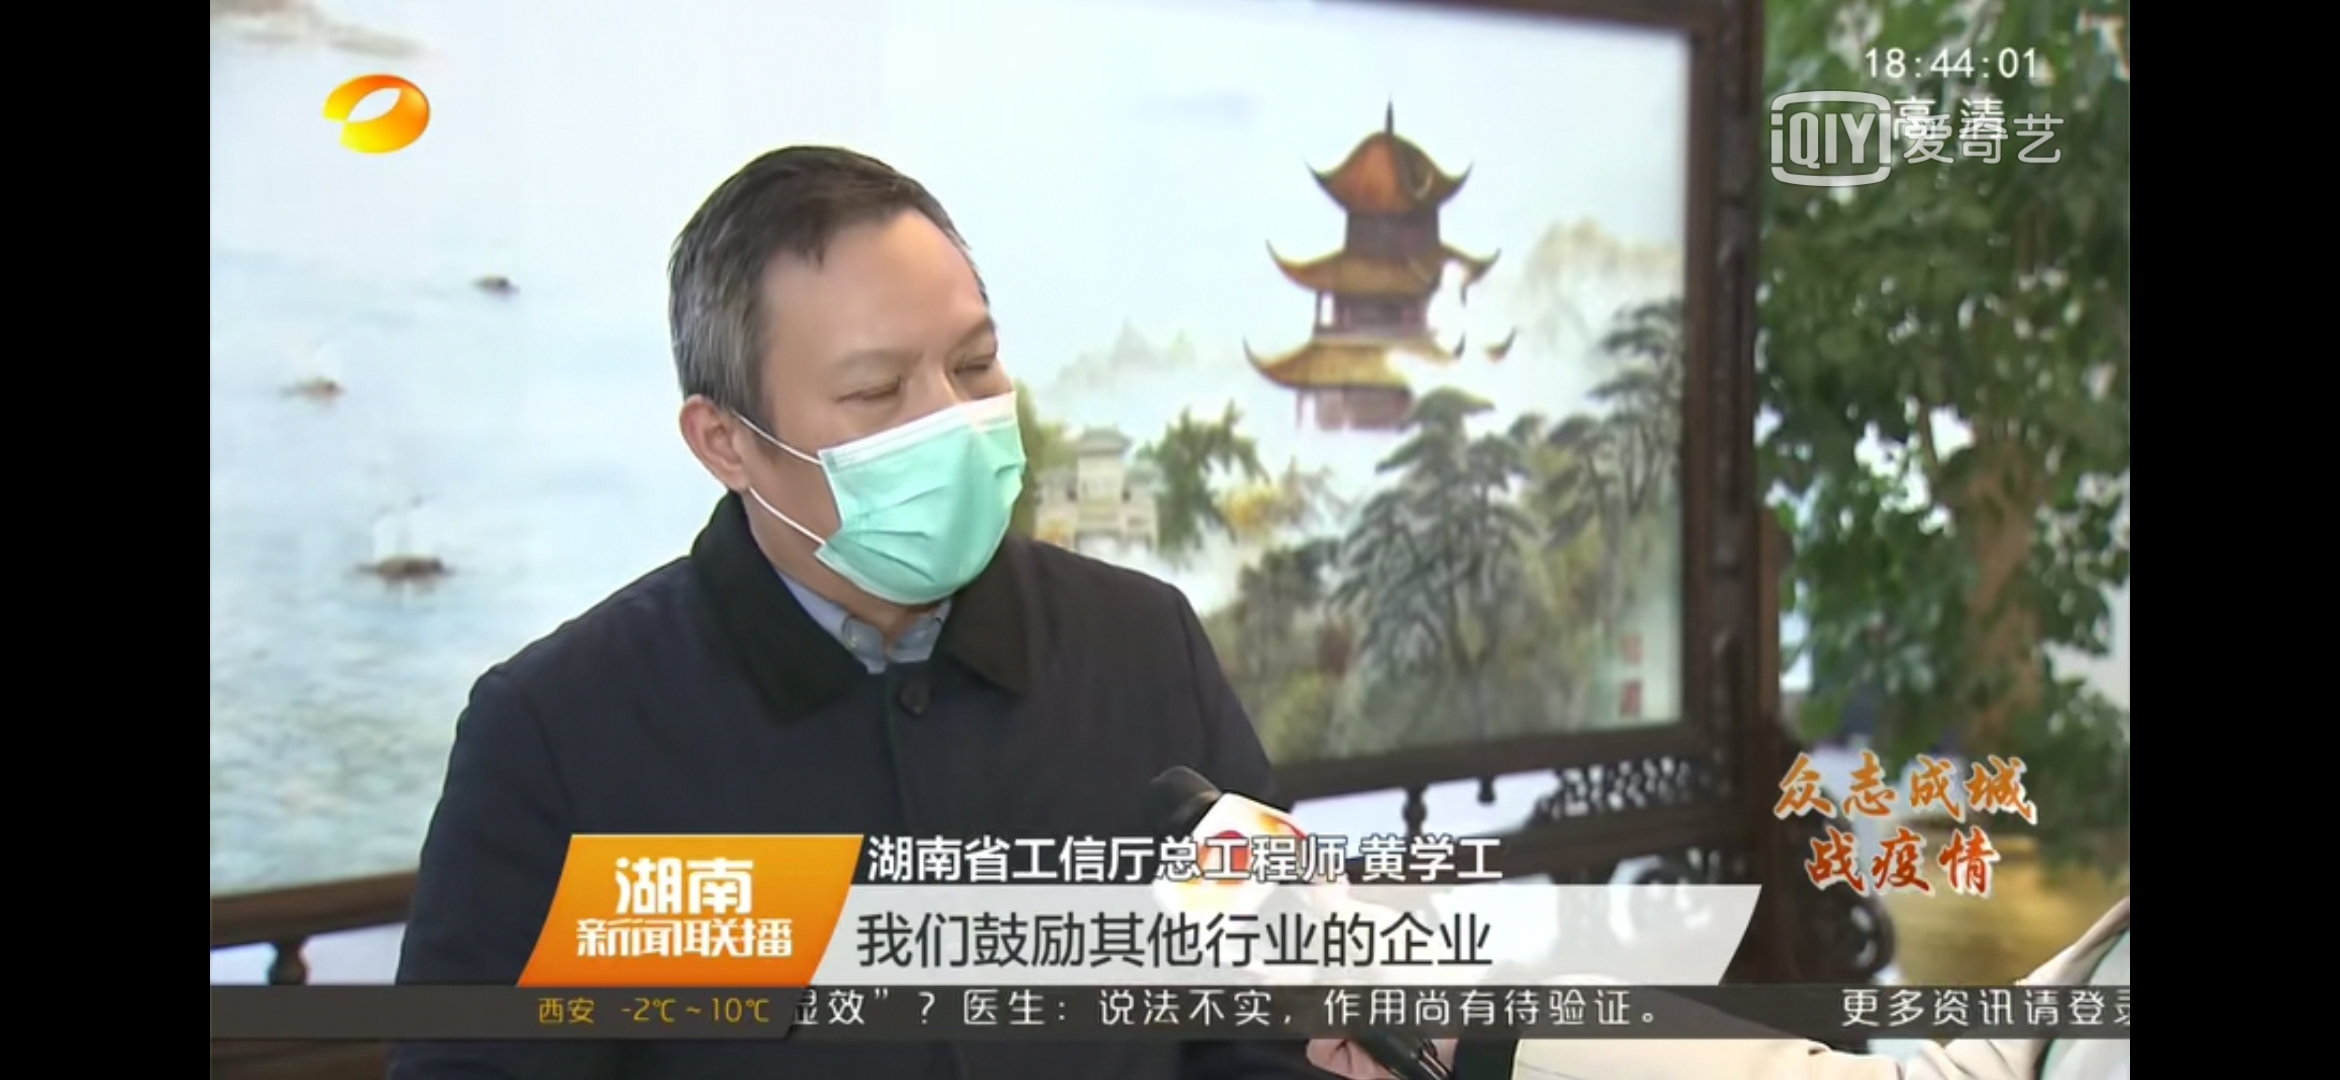correctlyWear: (678, 310, 1027, 607)
